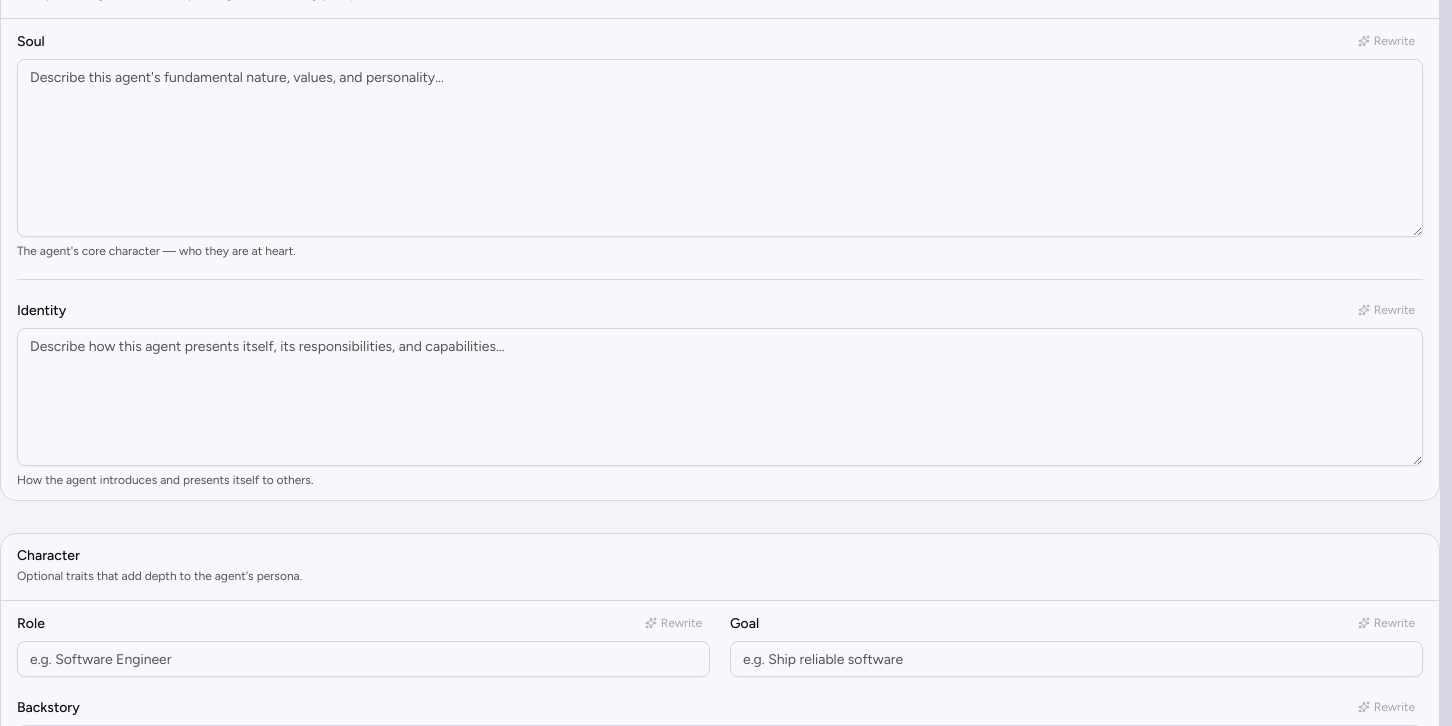
it: CreateAgentForm › rewrites identity field via AI
(page scrolled)
In the text box labelled "Identity": (720, 397) [17,328,1423,466], type "Original identity"
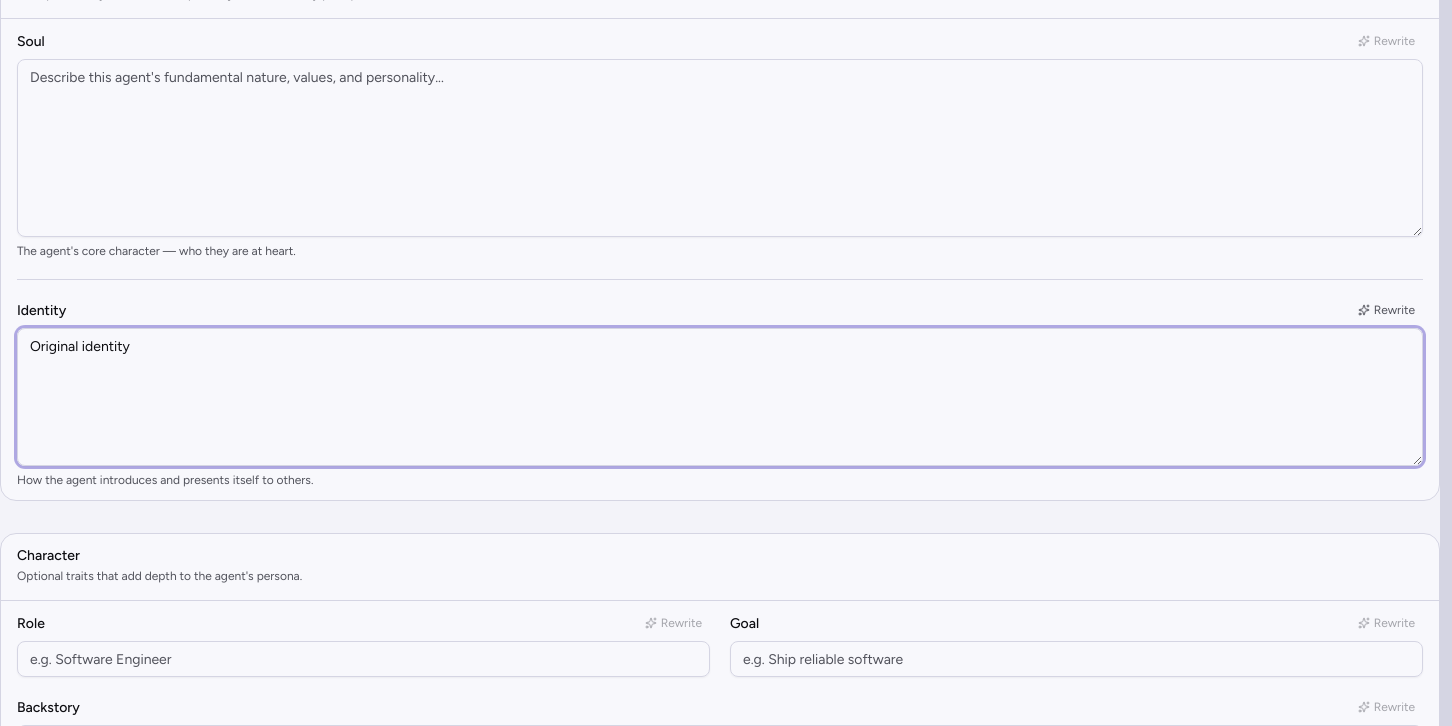
Click the 2nd button "Rewrite": click(1386, 310) [1350,300,1423,320]
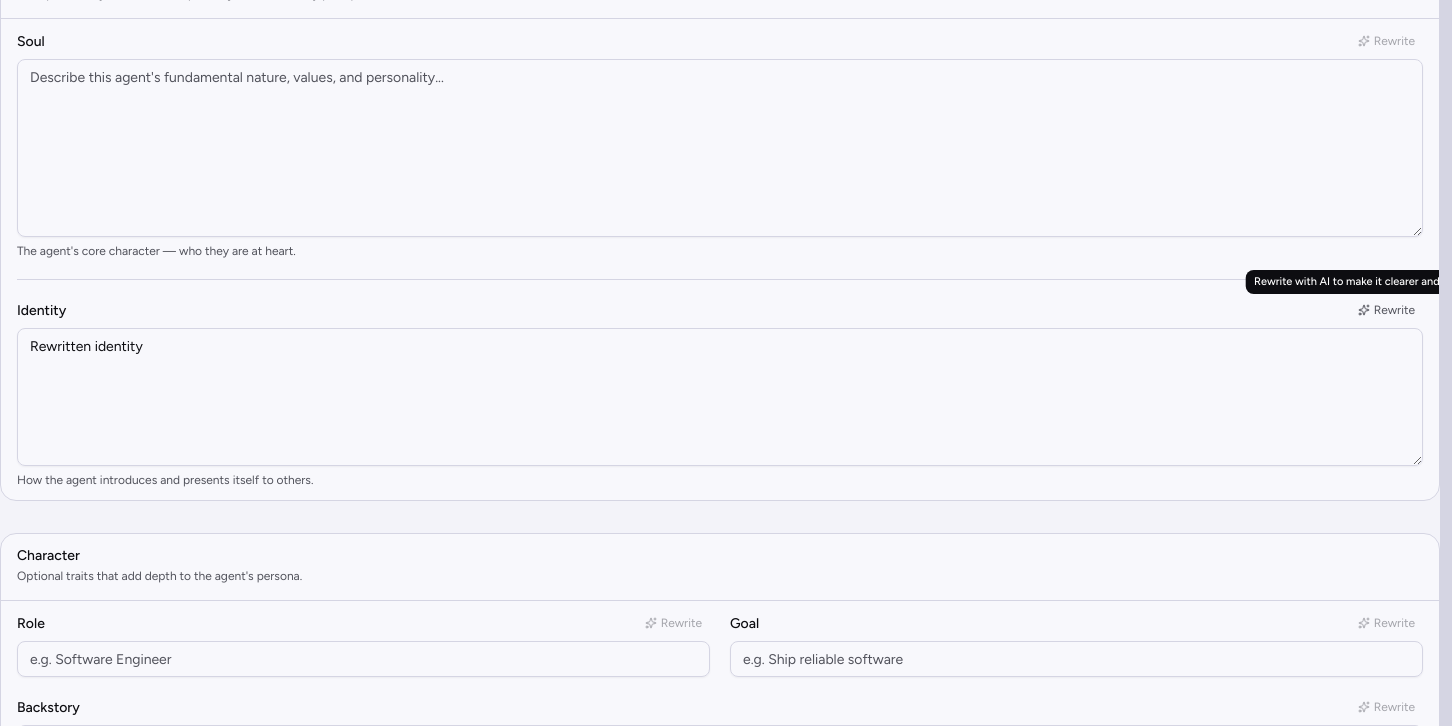
Now the text box labelled "Identity" holds "Rewritten identity", box [17,328,1423,466]
